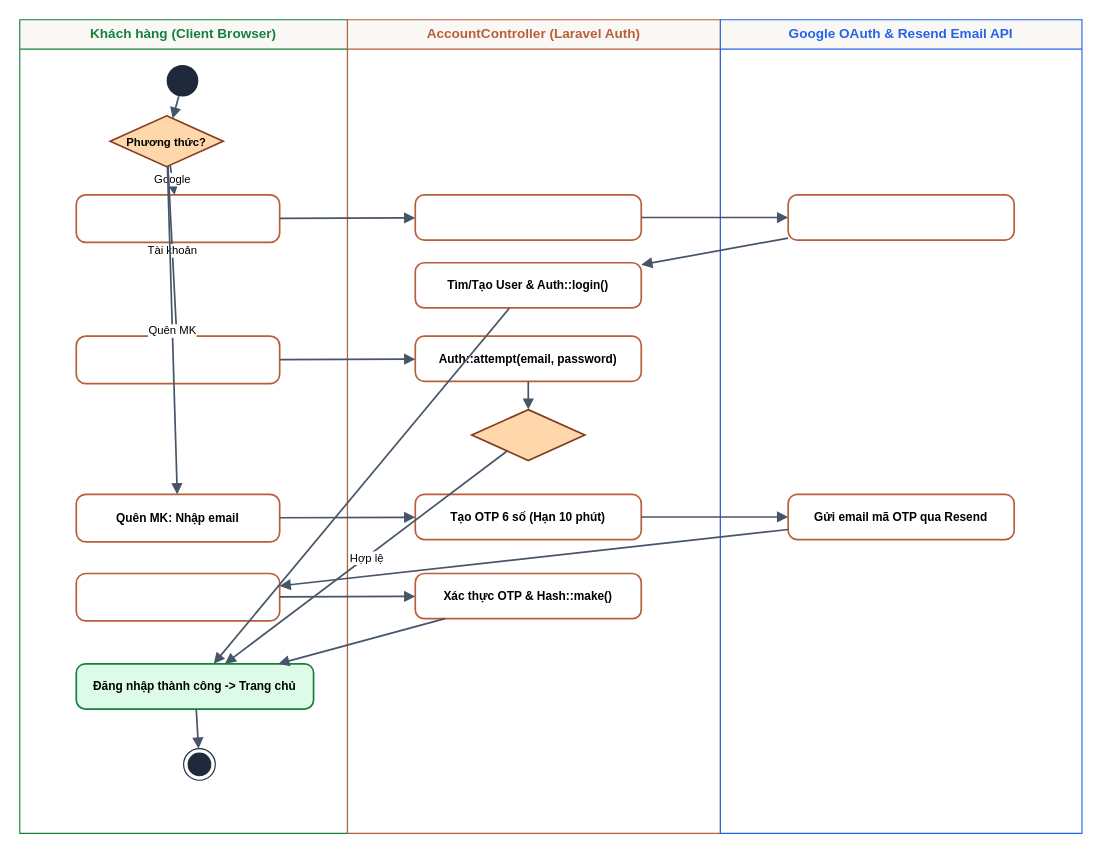
Some shapes in this 1102 by 853 pixel diagram are drawn without their labels. The shapes that lost their labels are listed below. From the top down, each one's centre as x and y in pixels, then its label:
[177,218]: Click "Đăng nhập Google"
[528,217]: Gọi Socialite::driver(google)
[901,217]: Xác thực tài khoản Google
[177,359]: Nhập Email & Password
[527,434]: Đúng mật khẩu?
[177,596]: Nhập mã OTP & Mật khẩu mới
